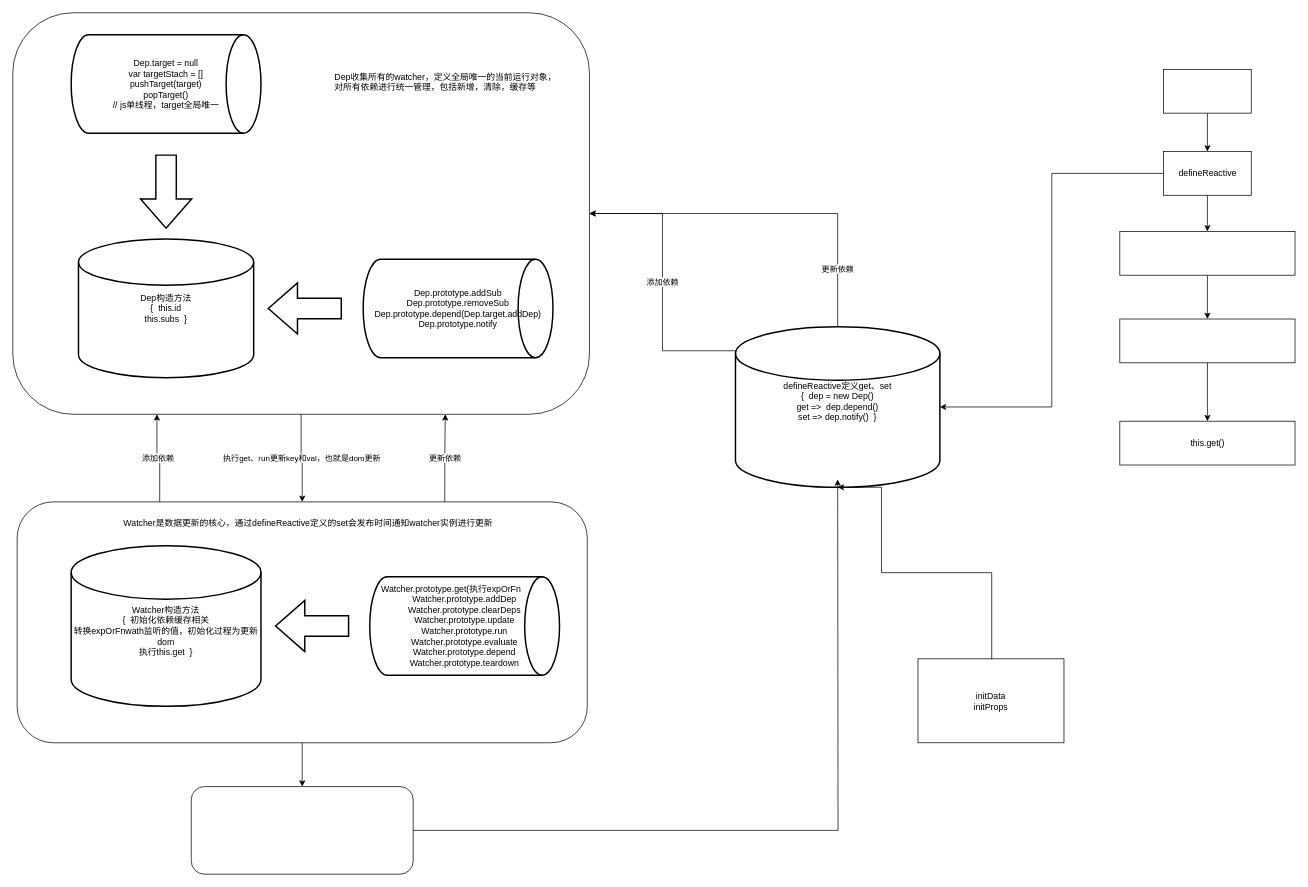
This 1308x887 diagram has some shape labels left out. The shapes that lost their labels are listed below. From the top down, each one's box as (x1, y1, x2, y2) in pixels, then its label:
(1163, 69, 1251, 113): new Vue
(1119, 231, 1295, 275): new Watcher(vm, expOrFn, cb, ...) cb = noop
(1119, 318, 1295, 363): this.get = convert(expOrFn)
(191, 786, 413, 874): this.$watch
